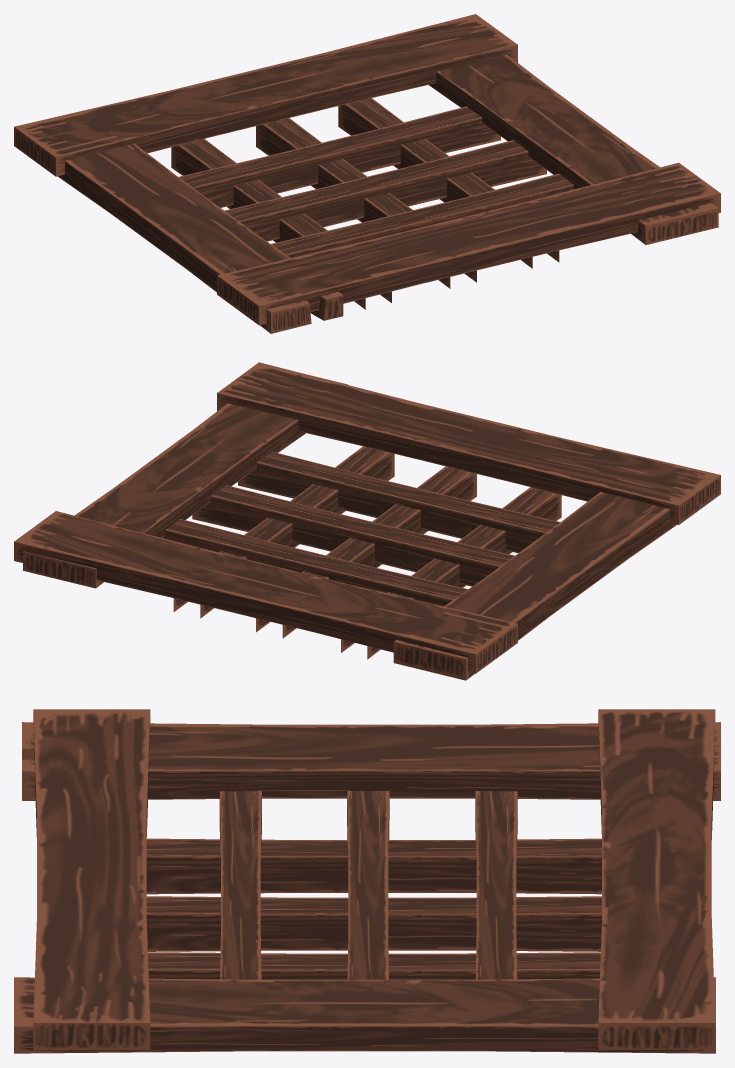
File: Wood_floor_hole_2.001.fbx
3 renders of one model, top to bottom at view 1: azimuth 30°, elevation 25°; view 2: azimuth 150°, elevation 25°; view 3: azimuth 270°, elevation 25°, orthographic. The views are drawn at different scales.
Parts seen in each view (by area): view 1: Wood_floor_hole_2.001; view 2: Wood_floor_hole_2.001; view 3: Wood_floor_hole_2.001.
Boxes of the visible parts, x1,y1,x2,y2 form: Wood_floor_hole_2.001: (14,14,720,333); Wood_floor_hole_2.001: (14,362,720,680); Wood_floor_hole_2.001: (14,709,720,1053).
Bounding box in the file's own units: 1.49 × 0.1715 × 1.42.
